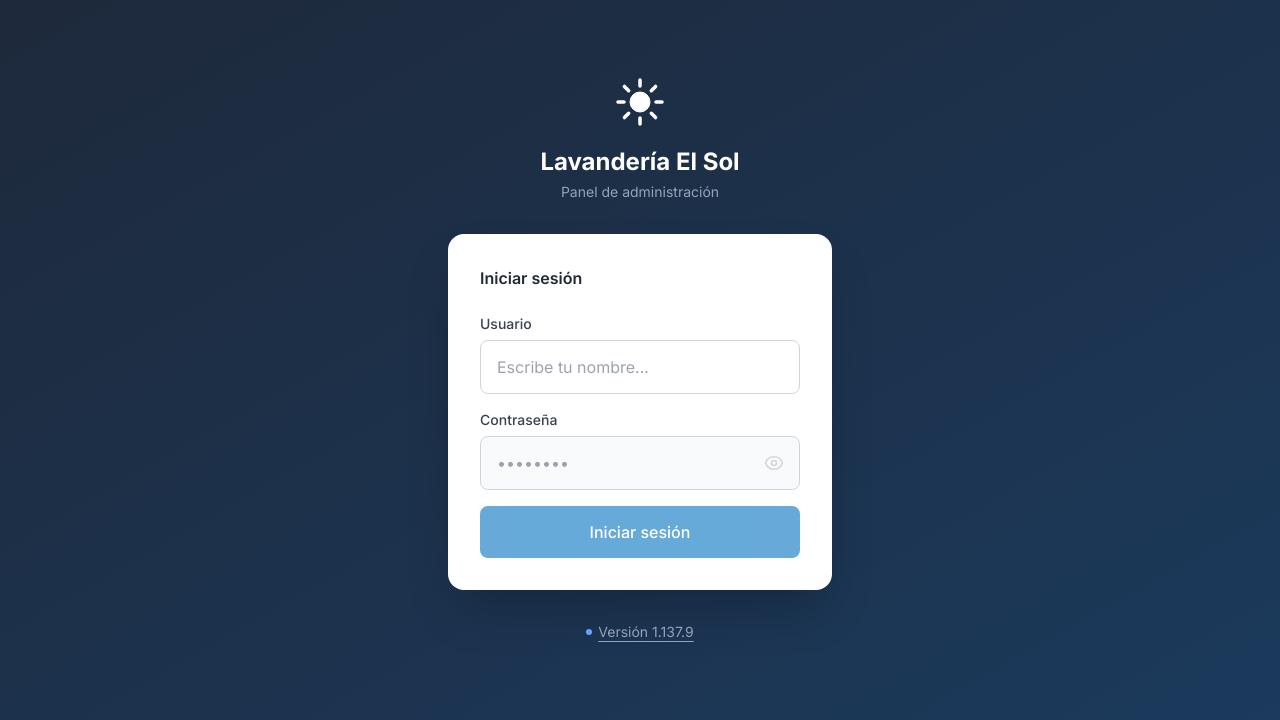
Test: Login › muestra el error cuando el login falla y no navega
The width and height of the screenshot is (1280, 720).
Type "Juan" into the field with placeholder "Escribe tu nombre..." at (640, 367), box [480, 340, 800, 394]
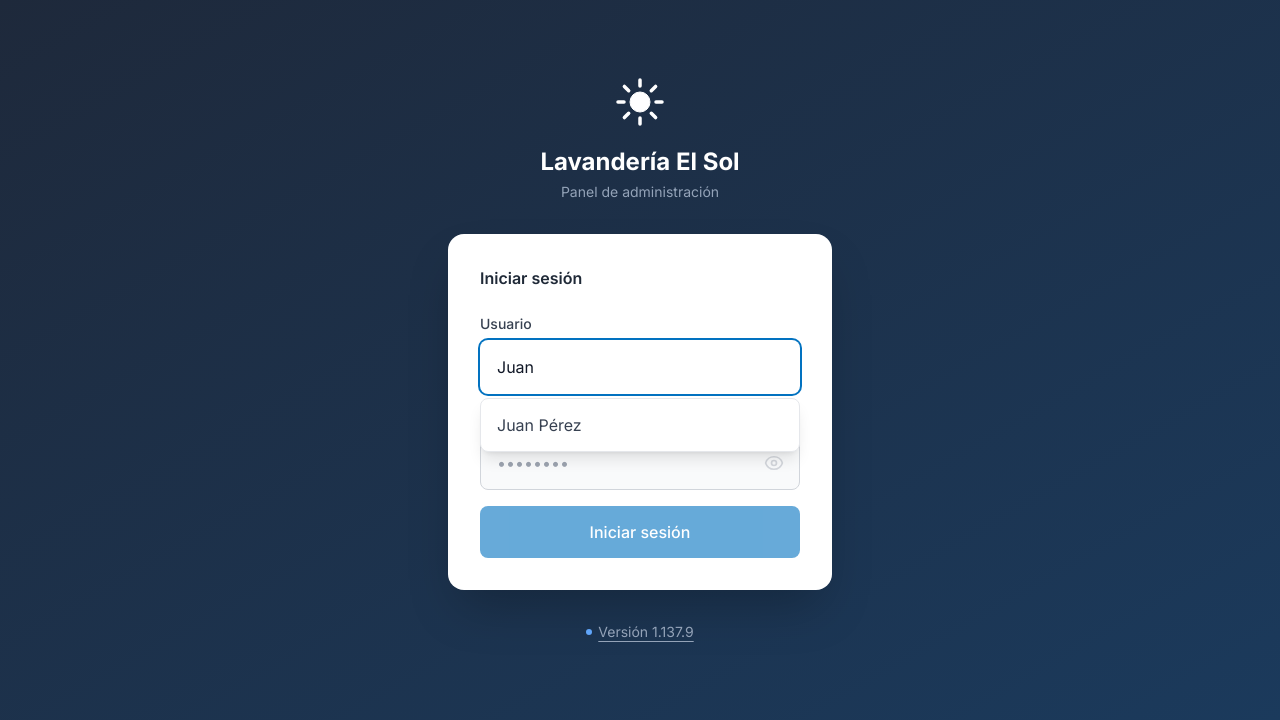
Click the button "Juan Pérez" at (539, 425), box [481, 399, 799, 451]
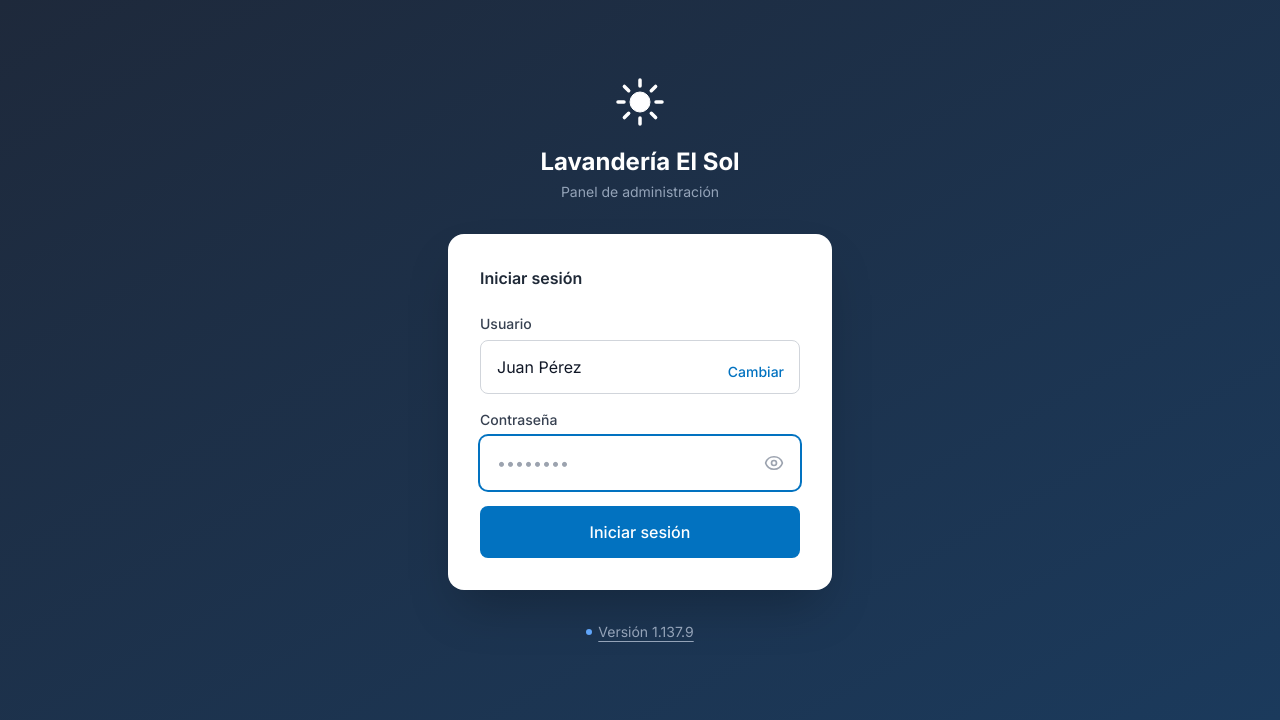
Type "mala" into the password field with placeholder "••••••••" at (640, 463), box [480, 436, 800, 490]
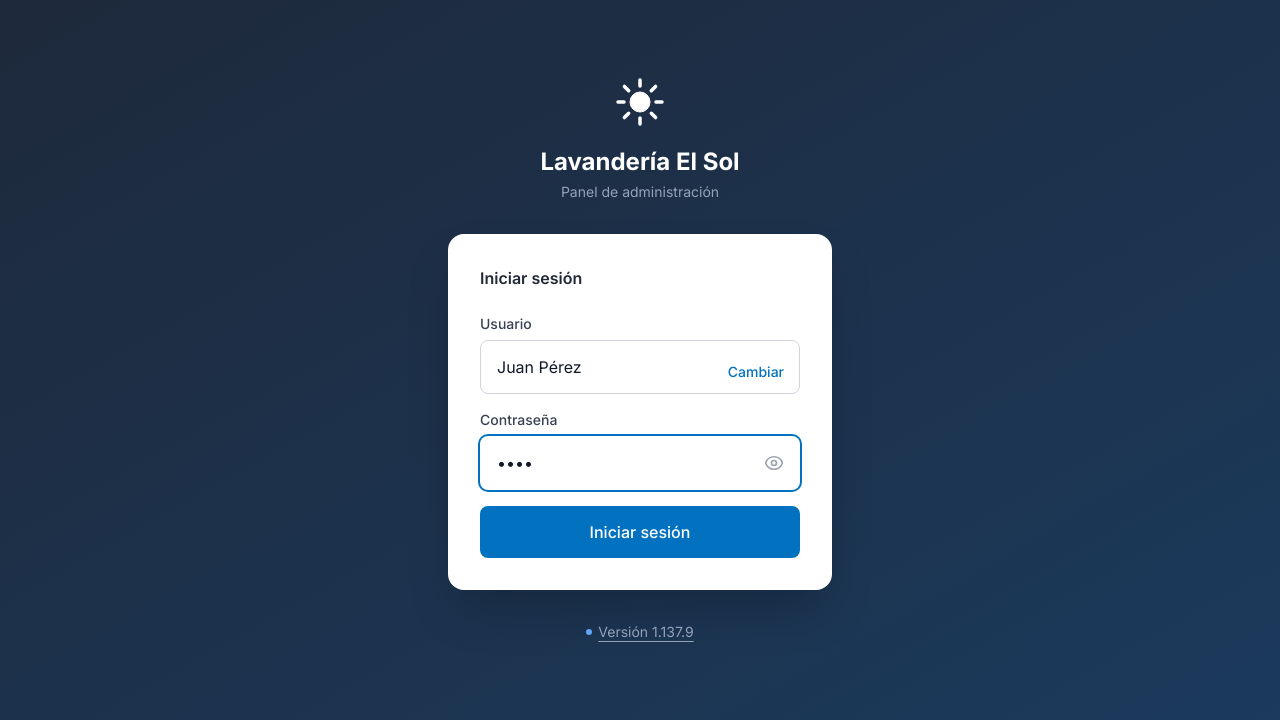
Click the button "Iniciar sesión" at (640, 532), box [480, 506, 800, 558]
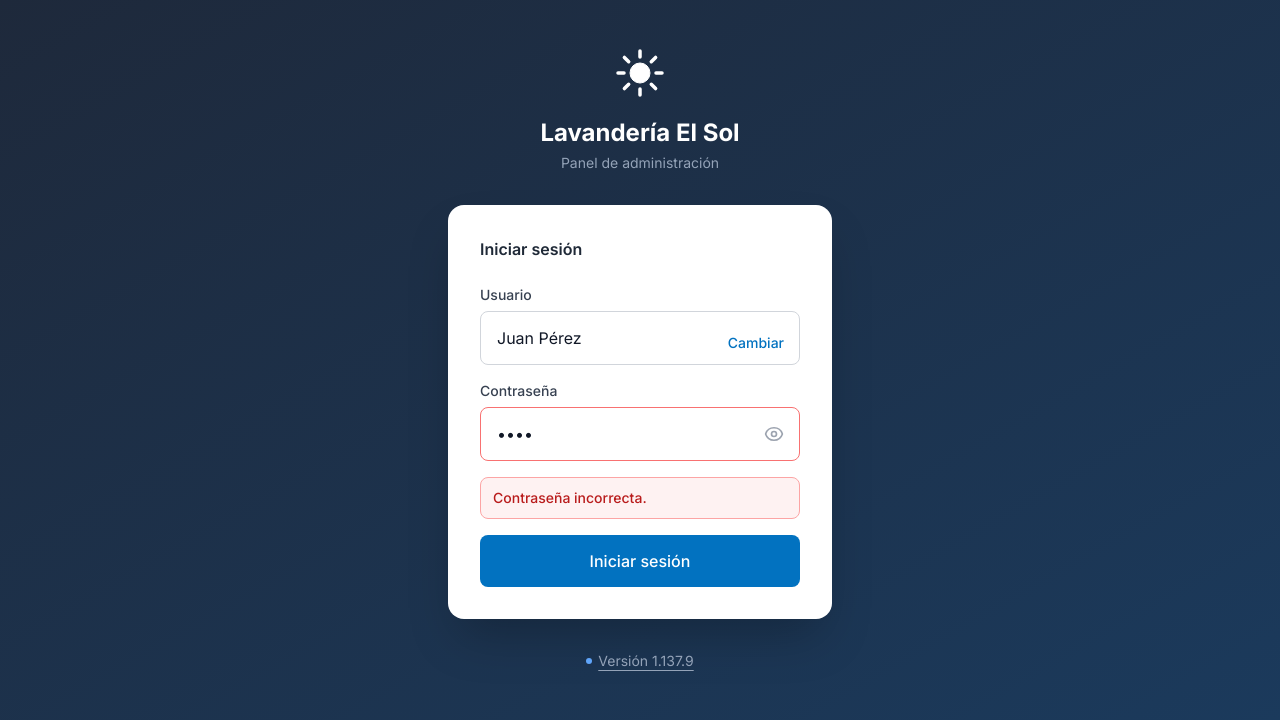
Result: the text "Contraseña incorrecta." is shown at [480, 477, 800, 519]
